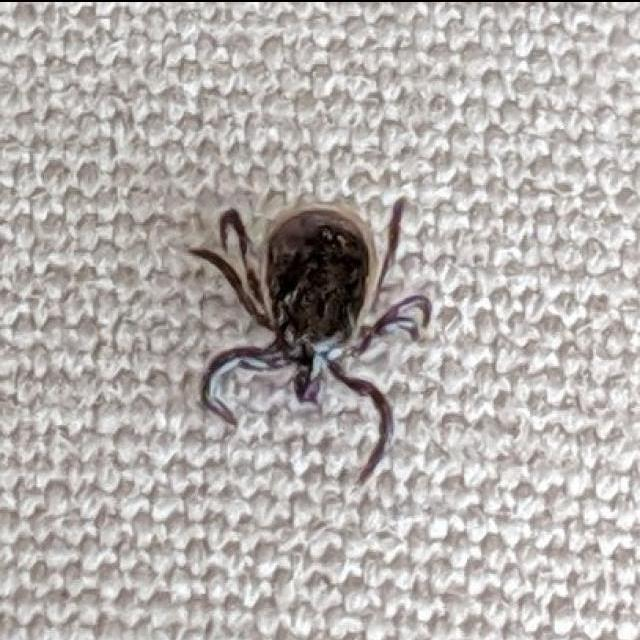Ixodes Ricinus-M: (189, 194, 432, 434)
